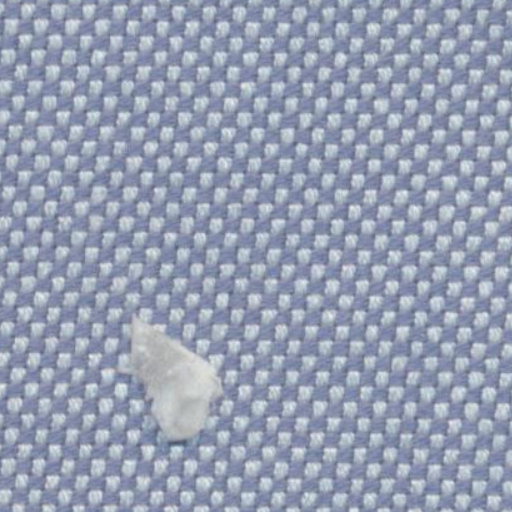MianQiu: (100, 286, 256, 460)
